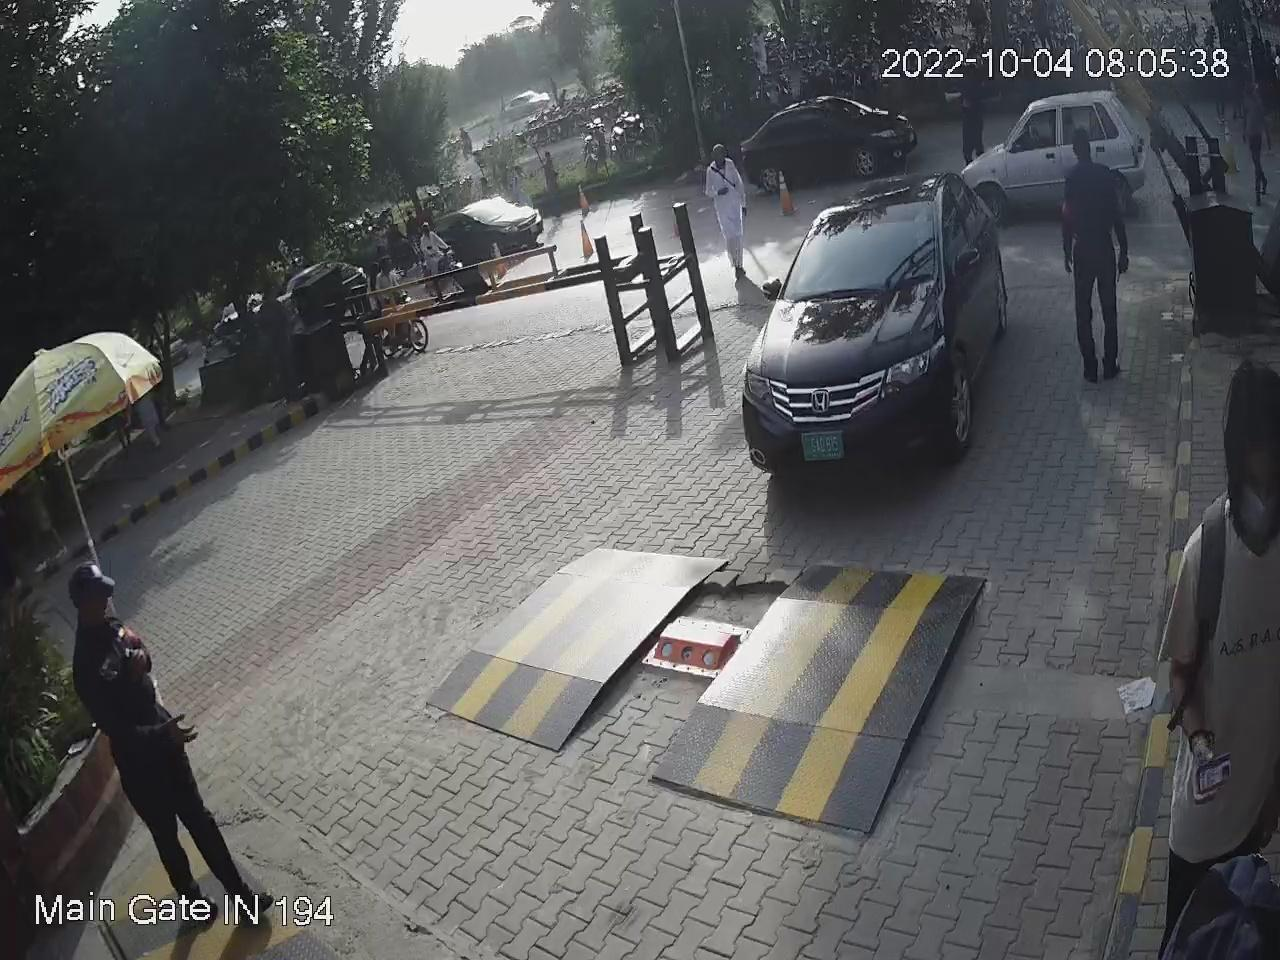windshield: (780, 177, 936, 303)
